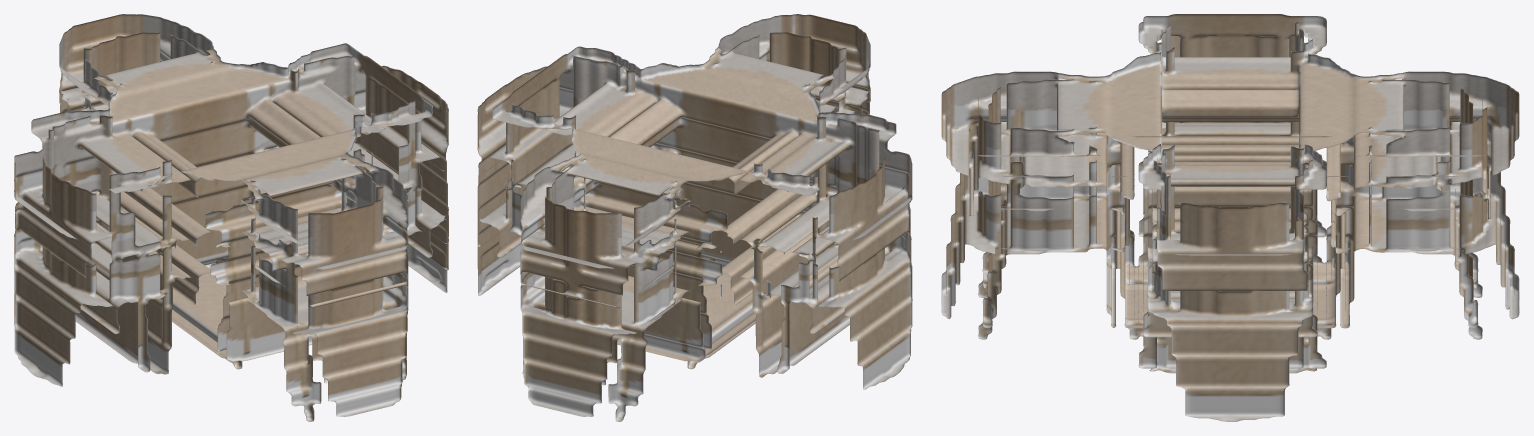
3 views of the same model, side by side, from view 1: azimuth 30°, elevation 25°; view 2: azimuth 150°, elevation 25°; view 3: azimuth 270°, elevation 25° (orthographic). The views are drawn at different scales.
Parts seen in each view (by area): view 1: geometry_0; view 2: geometry_0; view 3: geometry_0.
Part boxes in pixels (left/top/right/bottom): geometry_0: left=14, top=14, right=448, bottom=421; geometry_0: left=477, top=14, right=912, bottom=421; geometry_0: left=941, top=14, right=1519, bottom=421.
Bounding box in the file's own units: 1.29 × 0.6632 × 1.54.
